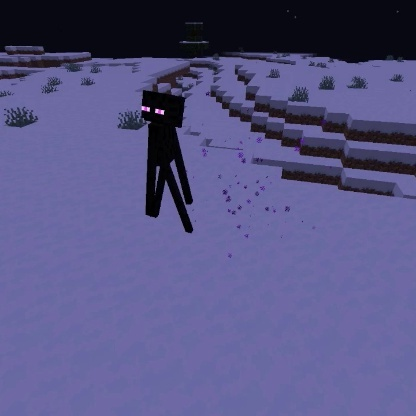enderman: (139, 88, 197, 236)
